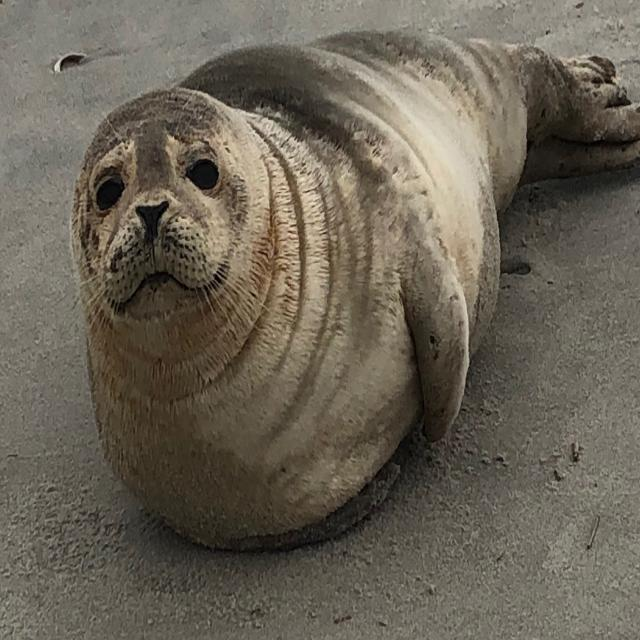seal: (71, 31, 640, 549)
